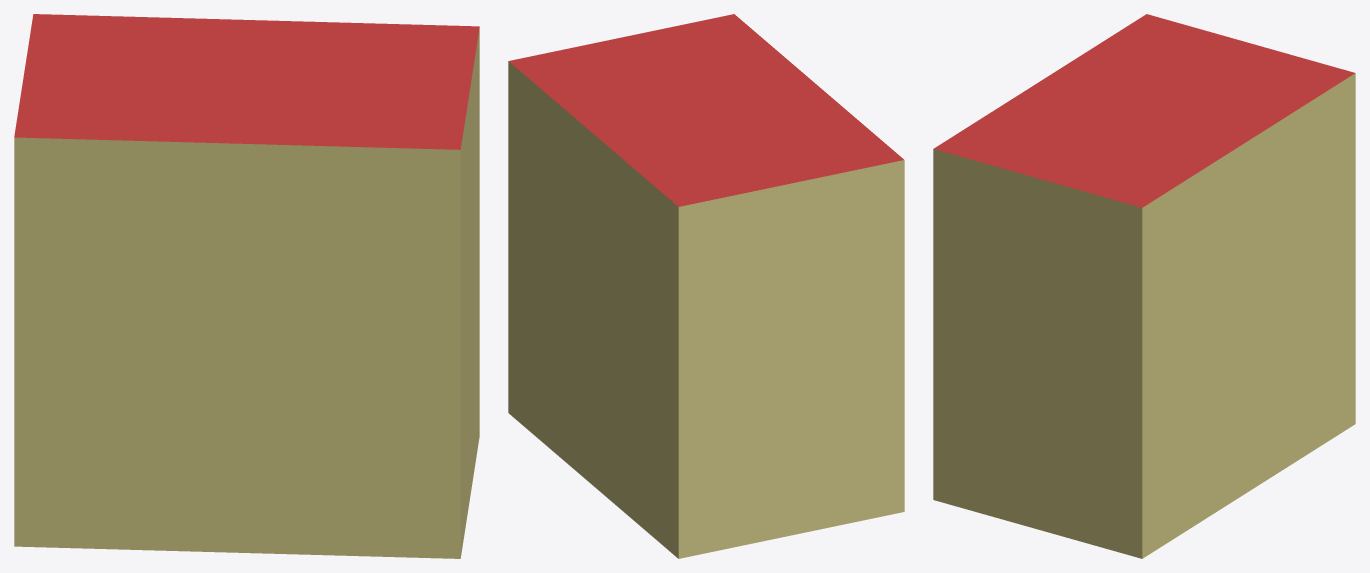
3 views of the same model, side by side, from view 1: azimuth 30°, elevation 25°; view 2: azimuth 150°, elevation 25°; view 3: azimuth 270°, elevation 25° (orthographic). The views are drawn at different scales.
Parts seen in each view (by area): view 1: group_4, group_3; view 2: group_4, group_3; view 3: group_4, group_3.
Boxes of the visible parts, x1,y1,x2,y2 form: group_4: [14, 28, 479, 558]; group_3: [14, 14, 479, 149]; group_4: [508, 61, 904, 558]; group_3: [508, 14, 903, 206]; group_4: [933, 73, 1355, 558]; group_3: [933, 14, 1354, 207].
Bounding box in the file's own units: 6.63 × 6.1 × 5.6.
